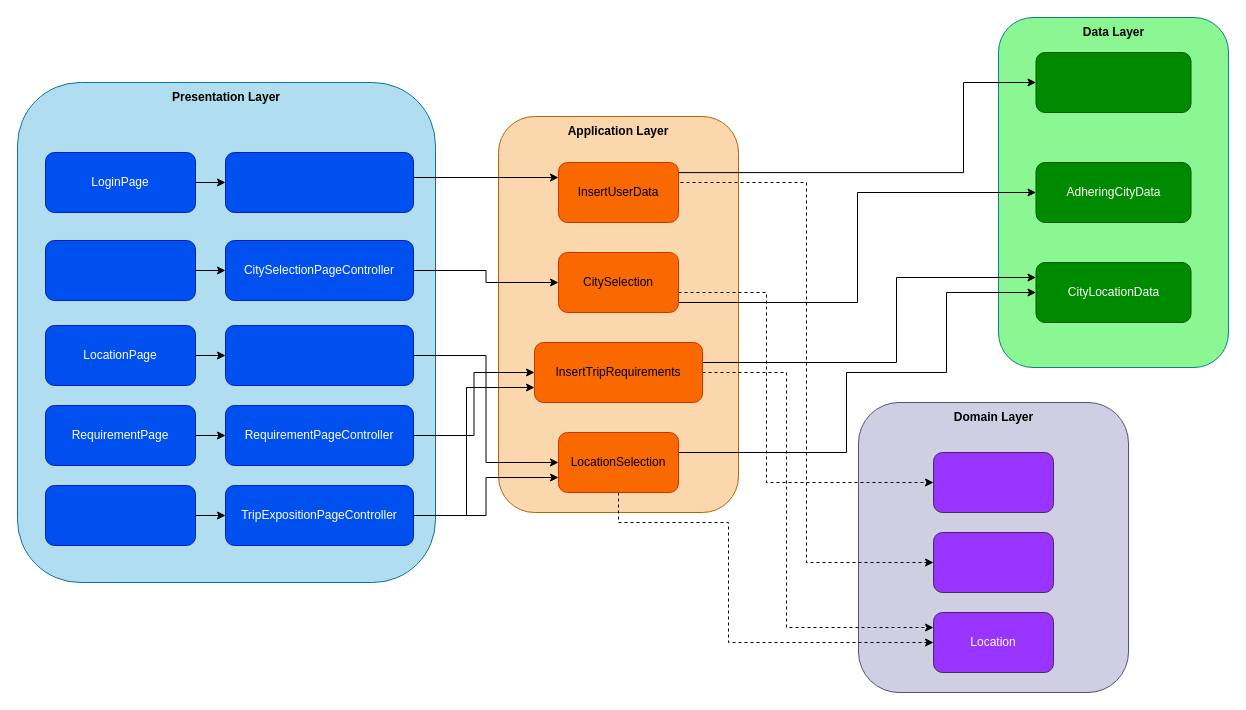
Some shapes in this 1246 by 710 pixel diagram are drawn without their labels. The shapes that lost their labels are listed below. From the top down, each one's box as (x1, y1, x2, y2) in pixels, then its label:
(1035, 52, 1191, 112): UserData
(224, 152, 414, 212): LoginController
(44, 240, 196, 300): CitySelectionPage
(224, 324, 414, 386): LocationPageController
(932, 452, 1054, 512): City
(44, 484, 196, 546): TripExpositionPage
(932, 532, 1054, 592): User
